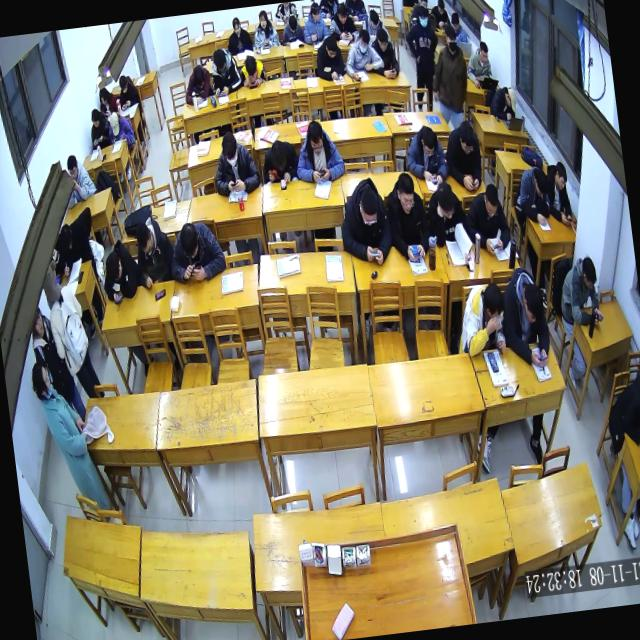bow: (164, 213, 229, 287), (96, 234, 142, 303), (513, 160, 553, 228), (258, 132, 302, 186), (180, 60, 213, 106), (486, 80, 520, 123), (236, 50, 267, 90)
down: (520, 280, 548, 328), (356, 180, 382, 230), (392, 169, 418, 216), (480, 280, 507, 324), (433, 176, 458, 222), (177, 220, 202, 264), (133, 219, 157, 260), (218, 130, 242, 170), (455, 117, 477, 157), (304, 118, 326, 158), (102, 248, 126, 284), (578, 254, 599, 293), (267, 136, 289, 173), (480, 182, 502, 218), (418, 124, 439, 159), (552, 156, 570, 194), (531, 166, 550, 201), (56, 222, 76, 252), (64, 153, 81, 184), (210, 47, 228, 75), (502, 84, 518, 113), (191, 64, 207, 92), (374, 27, 390, 54), (242, 54, 258, 80), (108, 110, 122, 138), (324, 34, 339, 60), (335, 1, 349, 27), (366, 7, 381, 30), (477, 40, 490, 66), (449, 11, 462, 35), (89, 106, 102, 129), (230, 15, 242, 37), (98, 85, 110, 106), (116, 72, 128, 93), (286, 12, 298, 33), (434, 0, 446, 16)
lookup: (27, 306, 47, 340), (442, 24, 461, 56), (354, 25, 372, 55), (415, 1, 430, 31), (256, 8, 270, 29)
sit: (28, 353, 108, 517), (37, 255, 102, 403), (26, 300, 86, 420), (496, 260, 554, 370), (334, 172, 396, 270), (380, 166, 433, 266), (423, 174, 476, 270), (449, 278, 510, 361), (425, 22, 473, 122), (289, 114, 347, 188), (461, 178, 514, 258), (207, 127, 263, 200), (554, 251, 604, 332), (130, 210, 178, 292), (440, 115, 488, 196), (402, 0, 444, 90), (401, 122, 453, 192), (599, 372, 640, 455), (339, 22, 386, 83), (52, 218, 96, 280), (60, 148, 98, 210), (542, 158, 575, 228), (207, 41, 244, 98), (366, 22, 400, 80), (312, 31, 346, 83), (462, 36, 493, 89), (248, 4, 282, 52), (325, 0, 360, 44), (298, 0, 331, 45), (104, 108, 136, 149), (85, 102, 113, 148), (223, 15, 254, 56), (360, 6, 390, 45), (114, 70, 140, 110), (278, 12, 306, 48), (96, 82, 118, 117), (448, 7, 468, 43), (428, 0, 451, 29)
